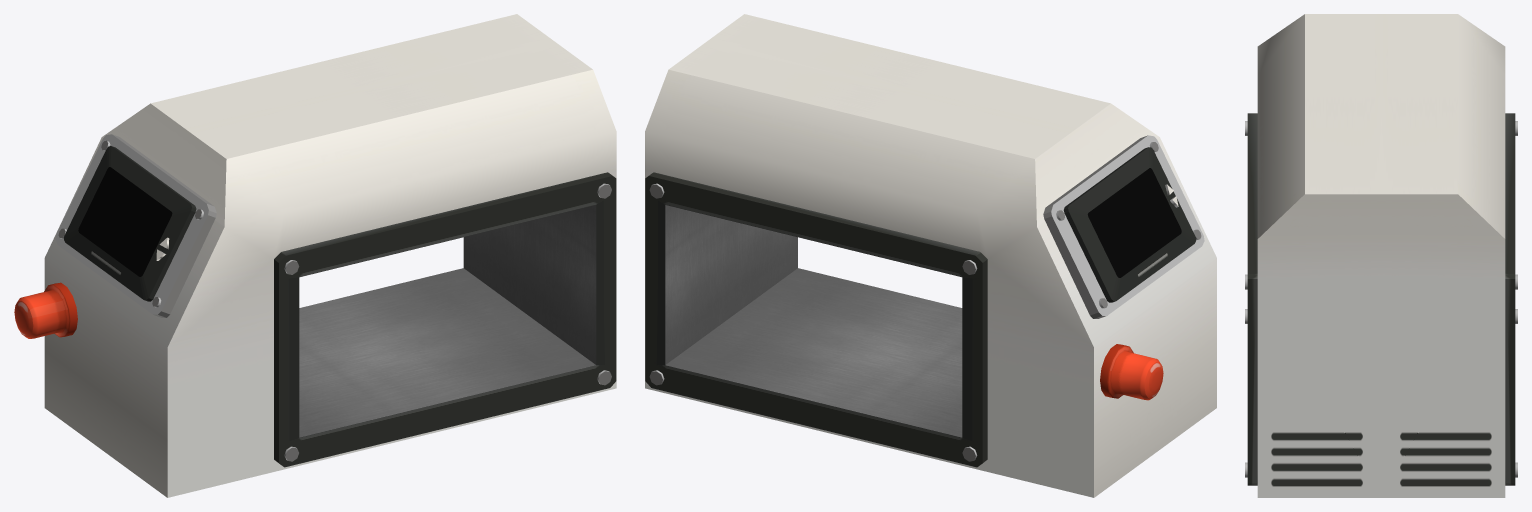
The model's file is Conveyor_belt_Machine.FBX.
3 views of the same model, side by side, from view 1: azimuth 30°, elevation 25°; view 2: azimuth 150°, elevation 25°; view 3: azimuth 270°, elevation 25° (orthographic).
Parts seen in each view (by area): view 1: Plane007; view 2: Plane007; view 3: Plane007.
Part boxes in pixels (box(x1,y1,x2,y2)): Plane007: box(14, 14, 616, 497); Plane007: box(645, 14, 1216, 497); Plane007: box(1245, 14, 1517, 497).
Bounding box in the file's own units: 75.1 × 35.78 × 43.96.
